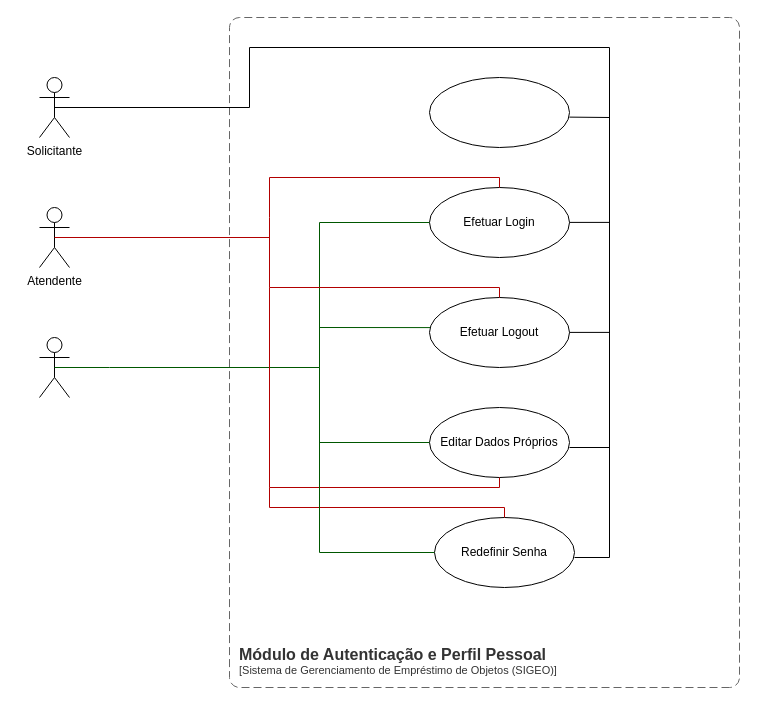
The diagram is 757 pixels wide and 705 high, and some of its shapes have lost their labels. The box of each missing label's shape, as (x1, y1, x2, y2) in pixels:
Administrador: (38, 336, 70, 398)
Efetuar Autocadastro: (428, 76, 570, 148)
